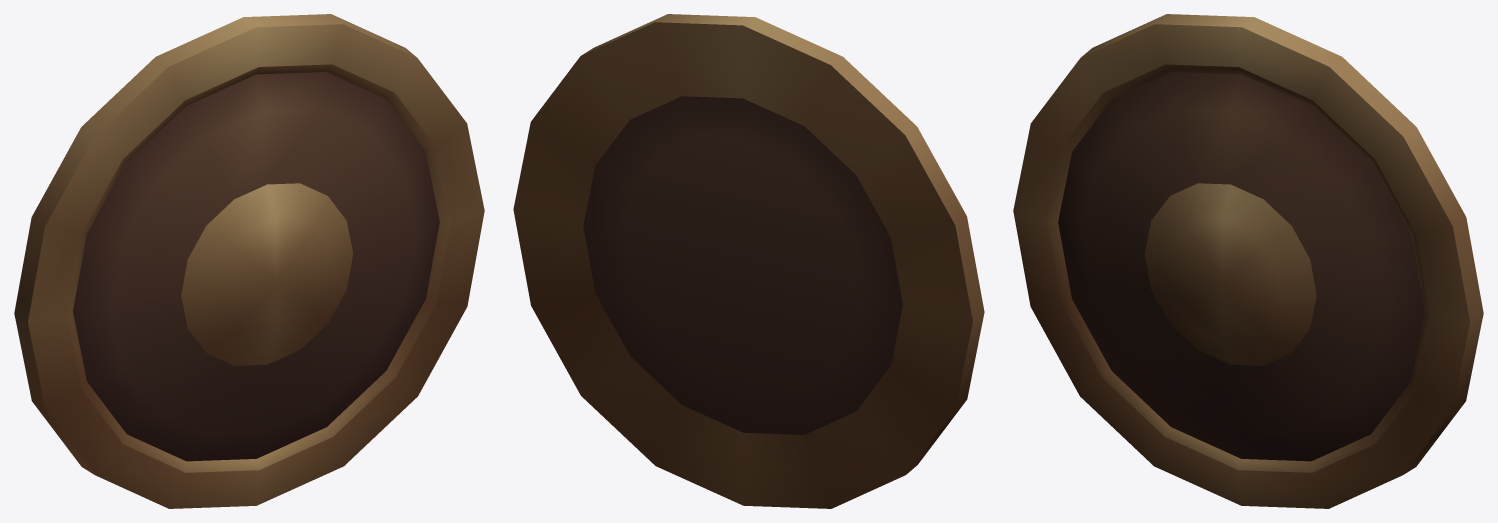
File: Equip_Shield_01_2.FBX
The picture shows the model from 3 angles, left to right: view 1: azimuth 30°, elevation 25°; view 2: azimuth 150°, elevation 25°; view 3: azimuth 330°, elevation 25°; orthographic projection.
Parts seen in each view (by area): view 1: Equip_Shield_01_2; view 2: Equip_Shield_01_2; view 3: Equip_Shield_01_2.
Part boxes in pixels (bbox=[...]): Equip_Shield_01_2: bbox=[14, 14, 484, 508]; Equip_Shield_01_2: bbox=[513, 14, 984, 508]; Equip_Shield_01_2: bbox=[1013, 14, 1483, 508].
Bounding box in the file's own units: 52.24 × 52.24 × 6.57.
